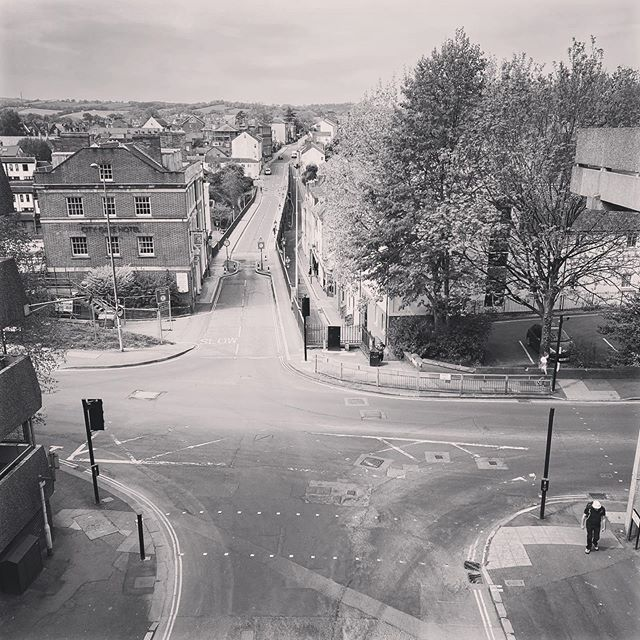building: (26, 141, 230, 304)
sky: (1, 1, 419, 94)
street: (51, 365, 640, 640), (215, 177, 307, 368)
tree: (351, 45, 504, 346), (477, 60, 630, 361)
